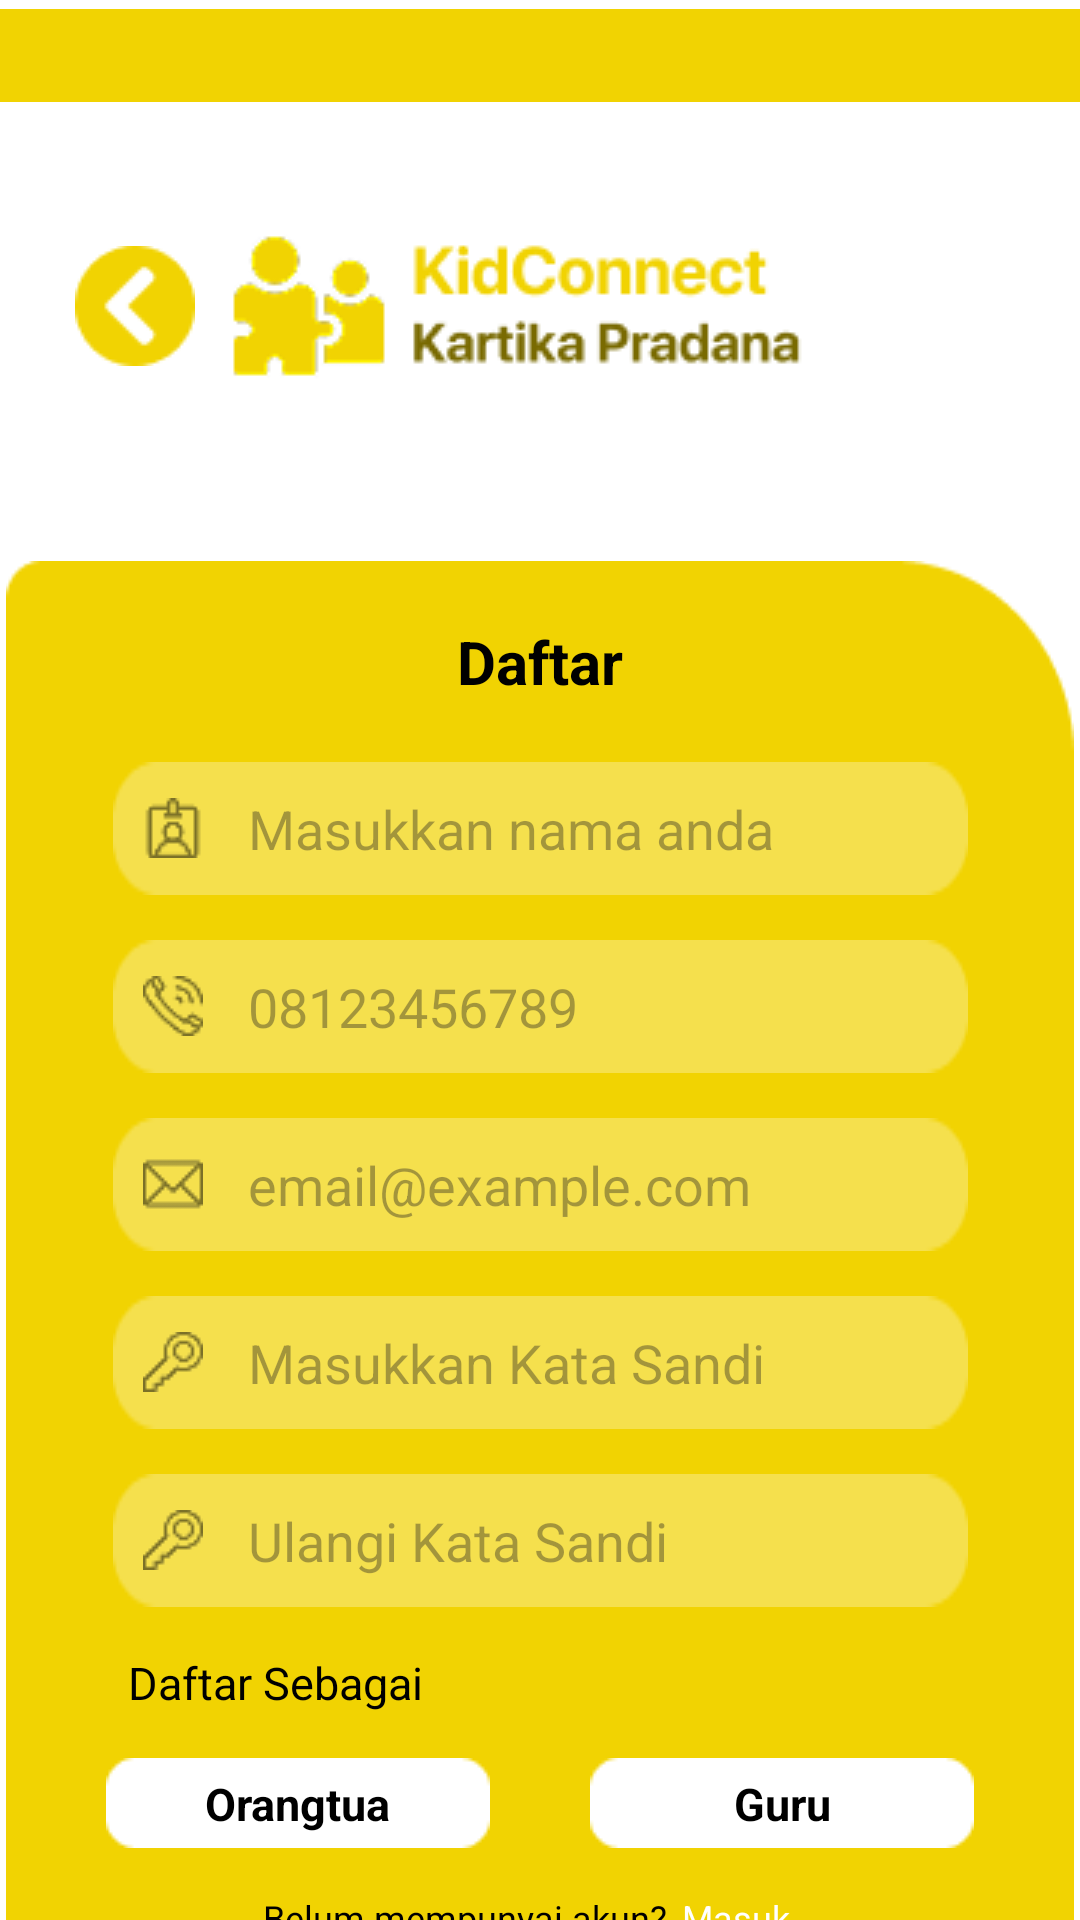

Icons on this 1080px x 1920px Android screen, each with the point to tap as (x=x, y=y):
back: (x=135, y=306)
